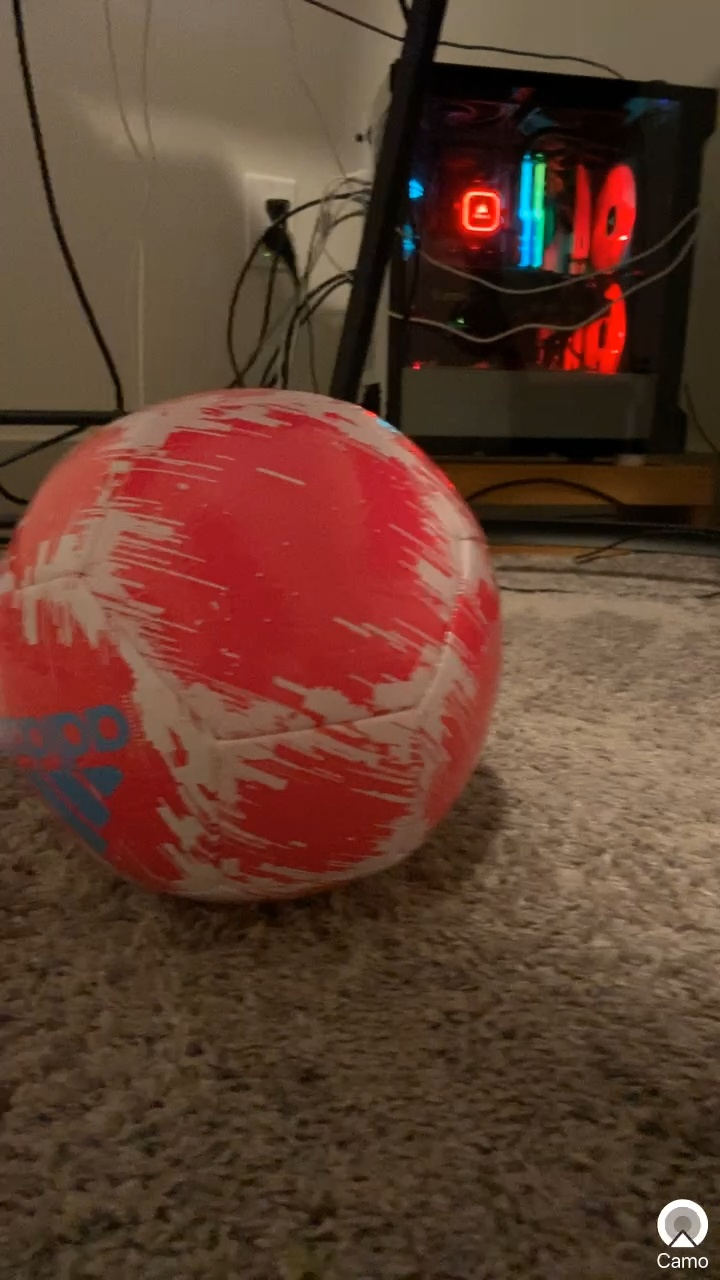Soccer_Ball: (30, 379, 512, 935)
